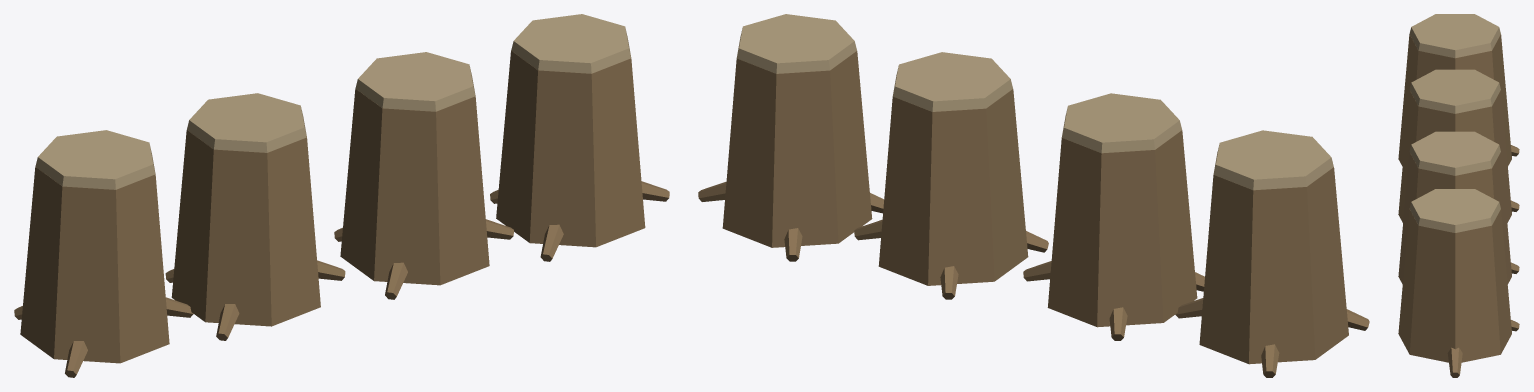
The model's file is map-exclusive-v3__ridge_15.glb.
The picture shows the model from 3 angles, left to right: view 1: azimuth 30°, elevation 25°; view 2: azimuth 150°, elevation 25°; view 3: azimuth 270°, elevation 25°; orthographic projection. The views are drawn at different scales.
Parts seen in each view (by area): view 1: ridge_15; view 2: ridge_15; view 3: ridge_15.
Part boxes in pixels (x1,y1,x2,y2): ridge_15: (14, 14, 669, 377); ridge_15: (698, 14, 1369, 377); ridge_15: (1398, 14, 1519, 377).
Bounding box in the file's own units: 2.94 × 0.8123 × 0.6442.
